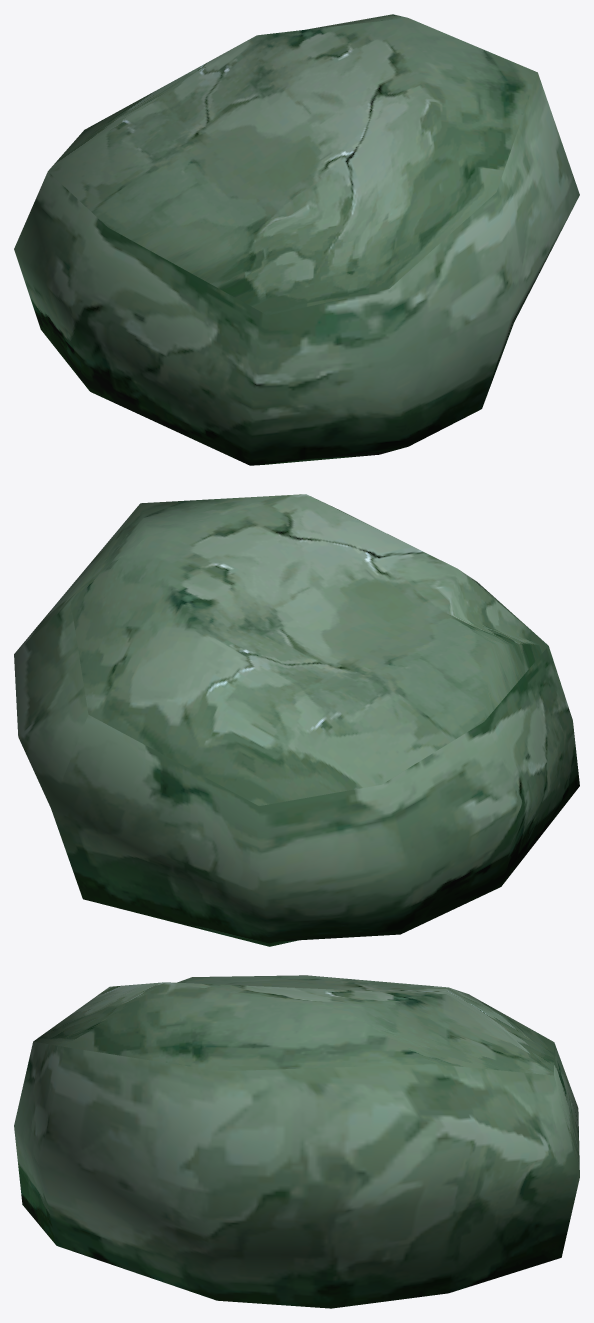
File: dro_junglerock_dead1.glb
The picture shows the model from 3 angles, top to bottom: view 1: azimuth 30°, elevation 25°; view 2: azimuth 150°, elevation 25°; view 3: azimuth 270°, elevation 25°; orthographic projection.
Parts seen in each view (by area): view 1: dro_junglerock1; view 2: dro_junglerock1; view 3: dro_junglerock1.
Boxes of the visible parts, left/top/right/bottom form: dro_junglerock1: left=14, top=14, right=579, bottom=465; dro_junglerock1: left=14, top=494, right=579, bottom=946; dro_junglerock1: left=14, top=975, right=579, bottom=1308.
Size of the model in its own units: 0.3171 by 0.2122 by 0.3352.
1 material, 1 textured.
